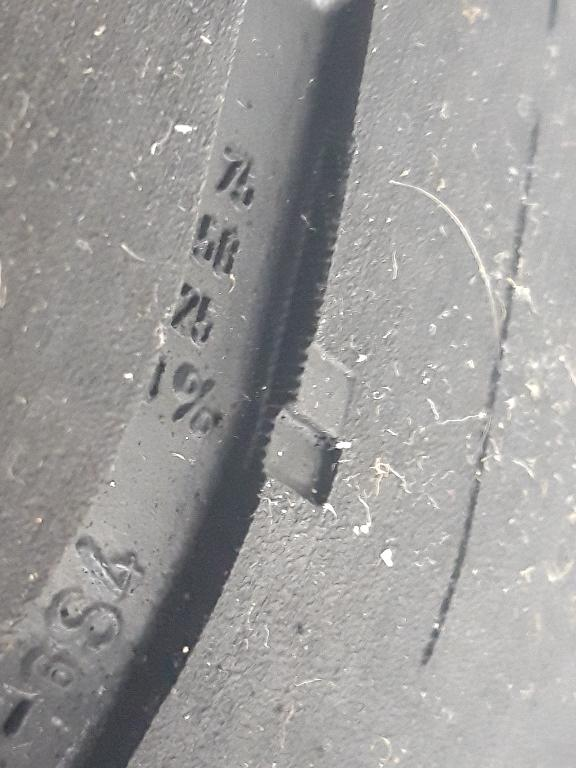temoin:25: (230, 320, 371, 521)
